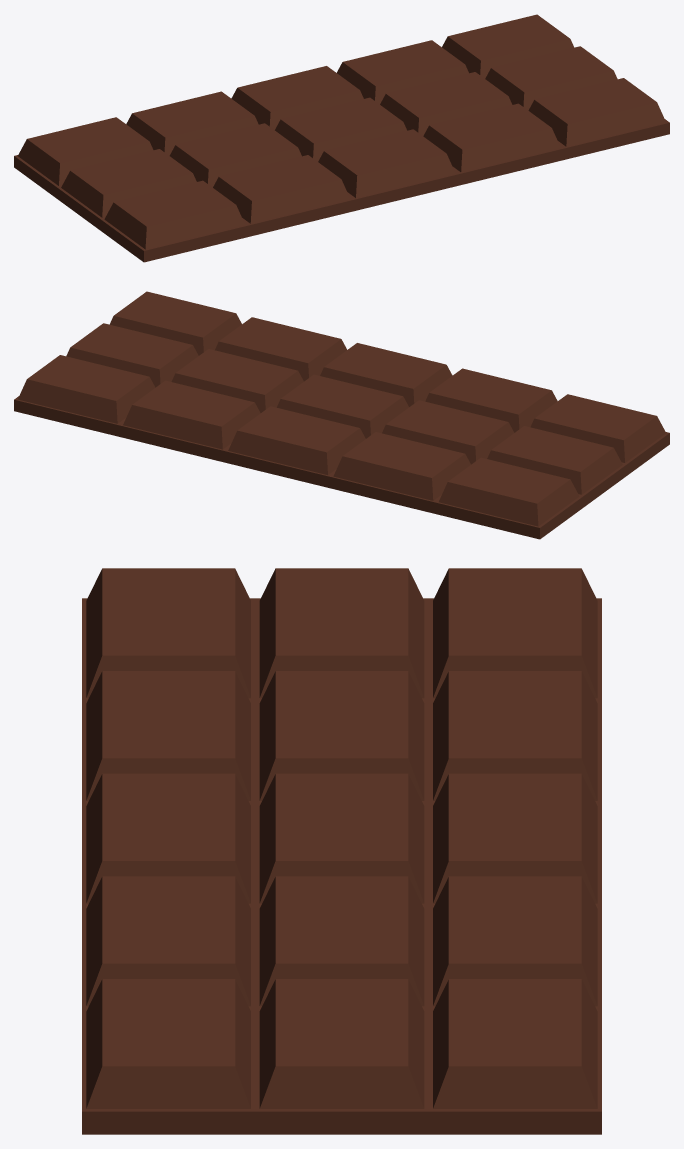
The model's file is BlackCho.glb.
3 renders of one model, top to bottom at view 1: azimuth 30°, elevation 25°; view 2: azimuth 150°, elevation 25°; view 3: azimuth 270°, elevation 25°, orthographic. The views are drawn at different scales.
Visible parts, largest first — view 1: chocolateBarMilk; view 2: chocolateBarMilk; view 3: chocolateBarMilk.
Part boxes in pixels (<box>): chocolateBarMilk: <box>14,14,669,262</box>; chocolateBarMilk: <box>14,291,669,539</box>; chocolateBarMilk: <box>82,568,601,1134</box>.
Size of the model in its own units: 6.29 by 0.3453 by 2.69.
